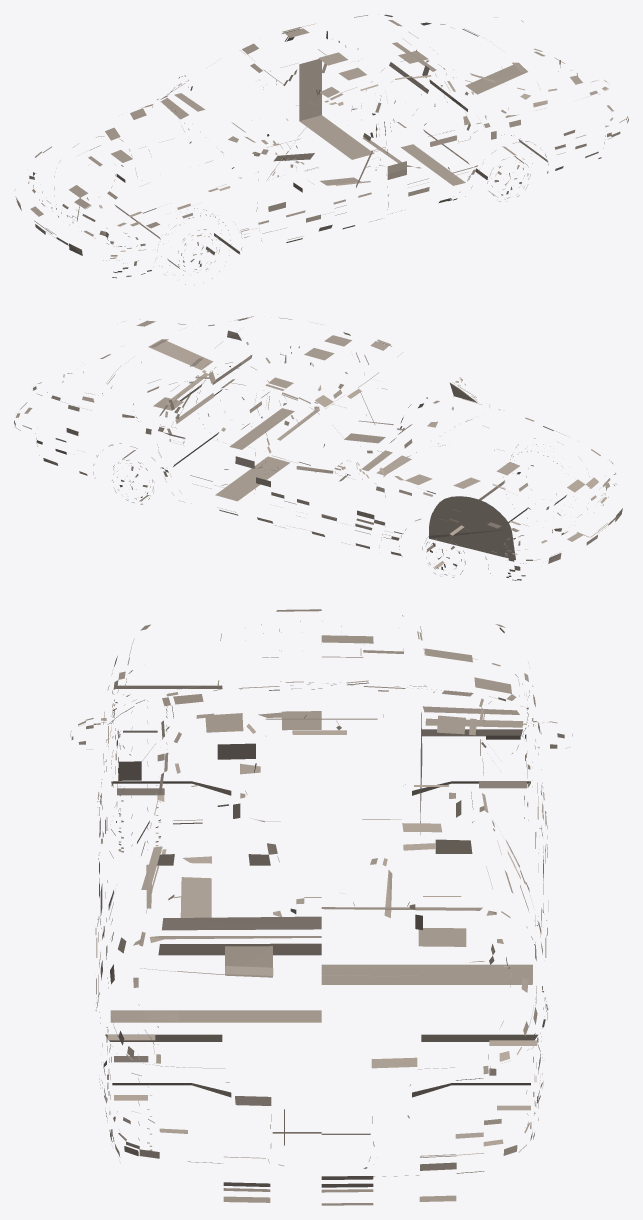
The model's file is vehicle-wreck-a.glb.
3 renders of one model, top to bottom at view 1: azimuth 30°, elevation 25°; view 2: azimuth 150°, elevation 25°; view 3: azimuth 270°, elevation 25°, orthographic. The views are drawn at different scales.
Parts seen in each view (by area): view 1: vehicle-wreck-a; view 2: vehicle-wreck-a; view 3: vehicle-wreck-a.
Part boxes in pixels (x1,y1,x2,y2): vehicle-wreck-a: (15,14,628,284); vehicle-wreck-a: (14,316,622,580); vehicle-wreck-a: (70,609,572,1205).
Size of the model in its own units: 1 by 0.2813 by 0.3971.
